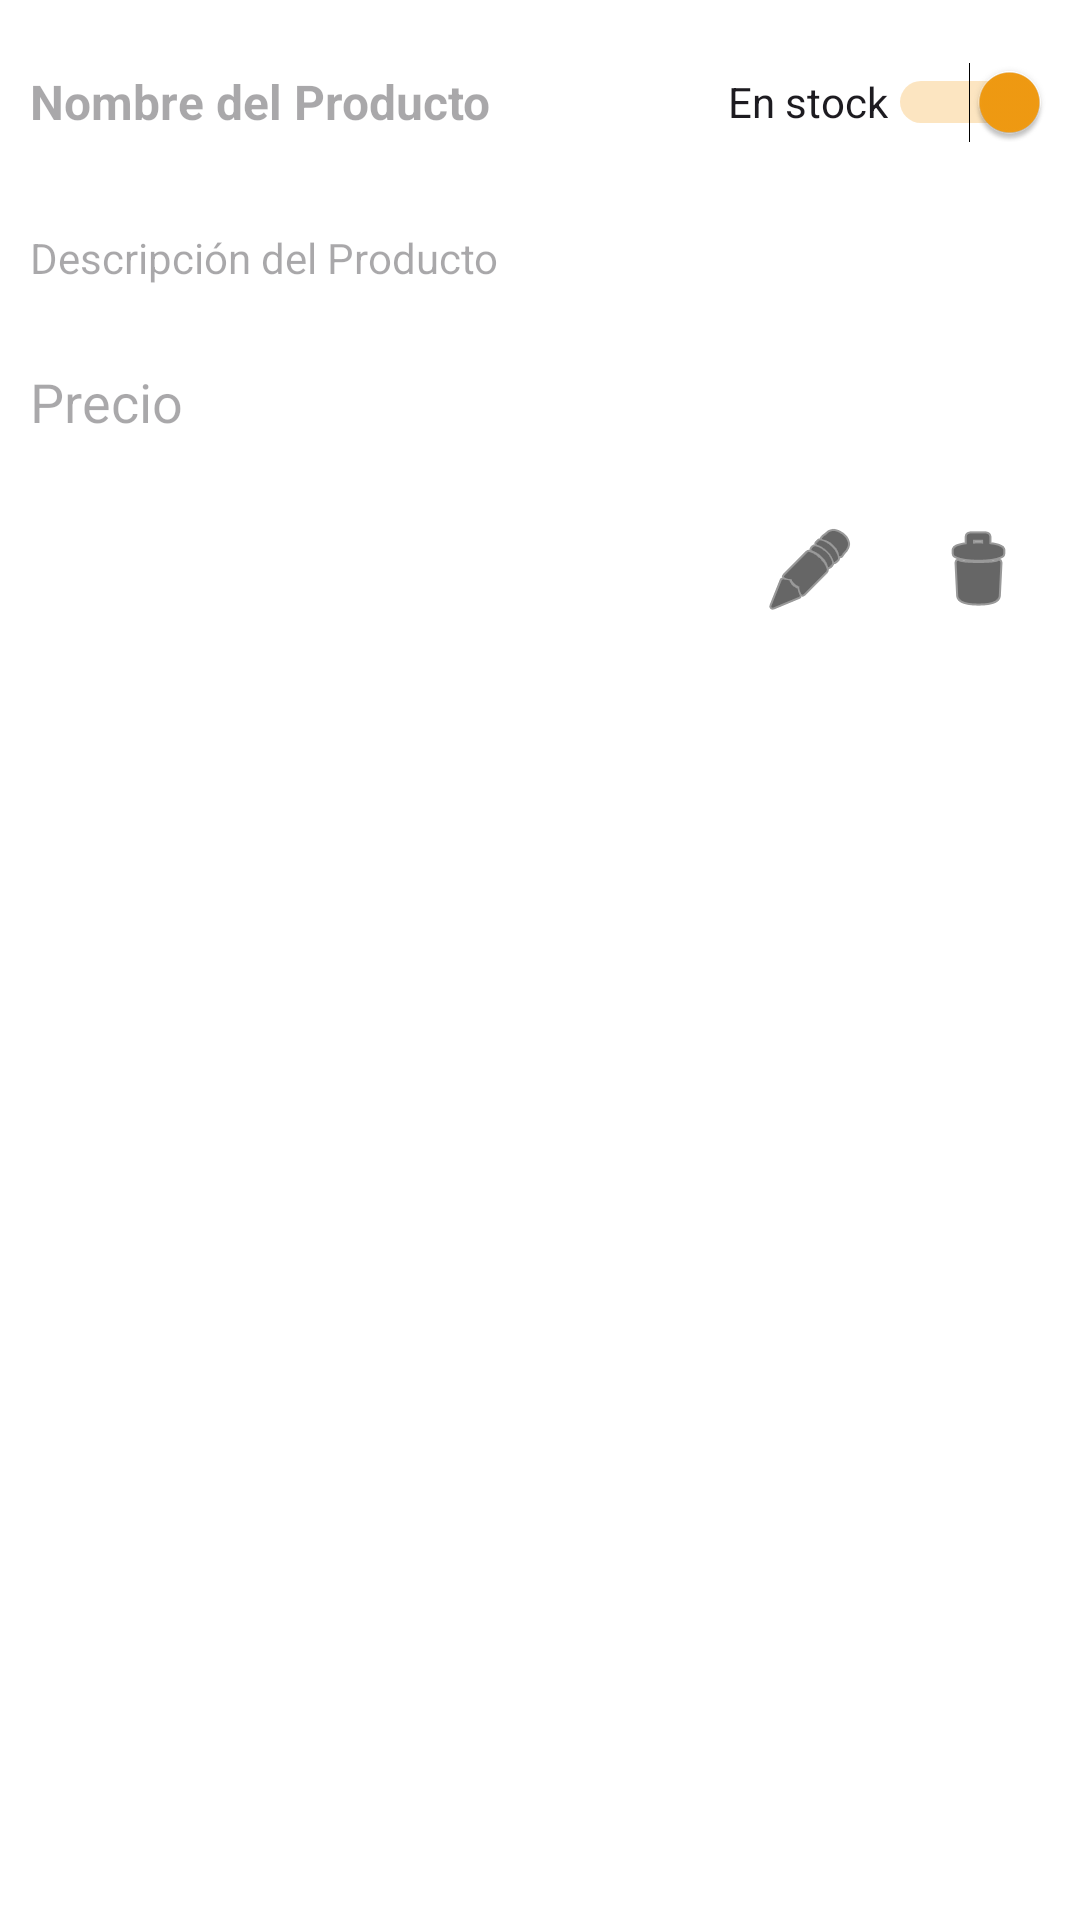

Point at icon controls on the screen. Image size 1080×1920, points as (x=x, y=y).
Borrar: (x=978, y=568)
Editar: (x=809, y=569)
